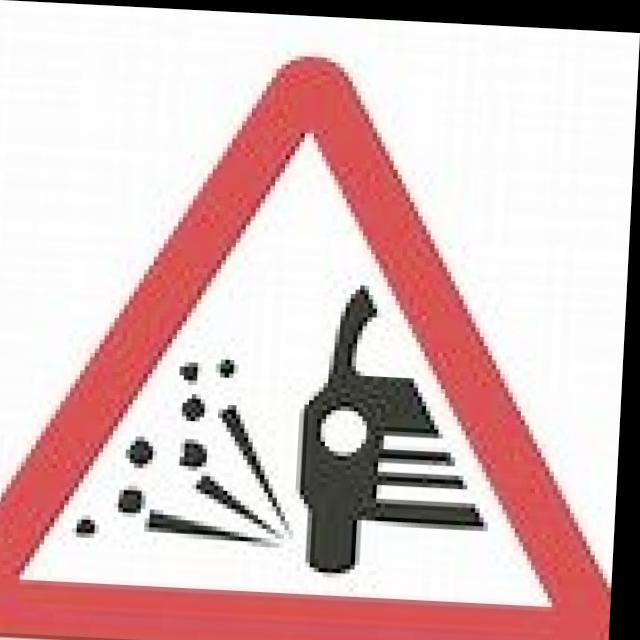LOOSE_GRAVEL: (0, 40, 638, 640)
